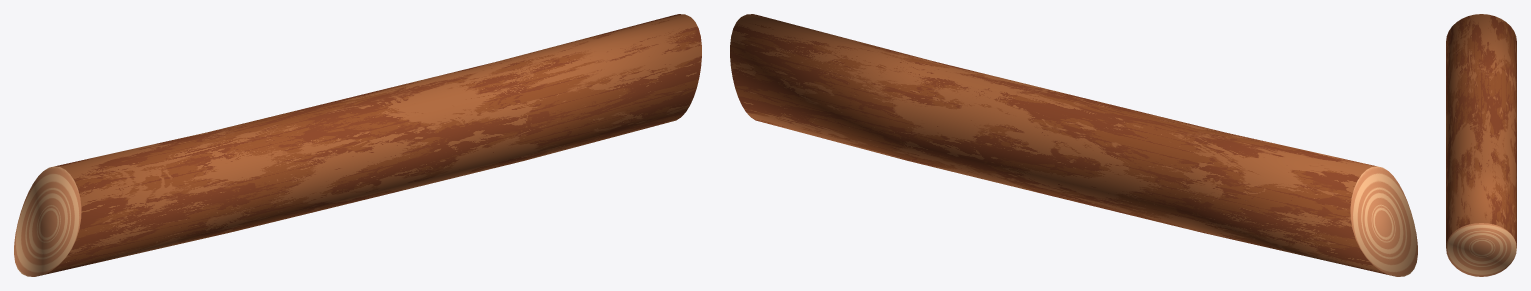
The model's file is buche.glb.
3 views of the same model, side by side, from view 1: azimuth 30°, elevation 25°; view 2: azimuth 150°, elevation 25°; view 3: azimuth 270°, elevation 25° (orthographic). The views are drawn at different scales.
Parts seen in each view (by area): view 1: Cylinder; view 2: Cylinder; view 3: Cylinder.
Part boxes in pixels (left/top/right/bottom): Cylinder: left=14, top=14, right=701, bottom=276; Cylinder: left=730, top=14, right=1417, bottom=276; Cylinder: left=1446, top=14, right=1516, bottom=276.
Bounding box in the file's own units: 14.95 × 2.07 × 2.
1 material, 1 textured.
